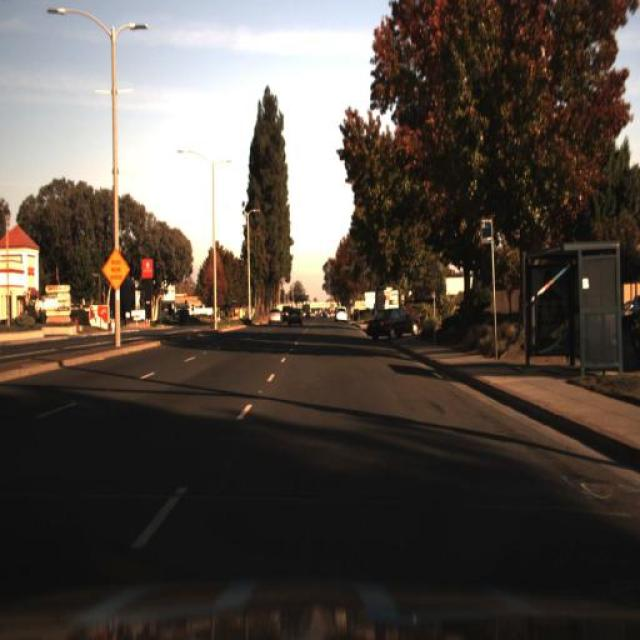car: (364, 302, 421, 349), (332, 300, 352, 328), (261, 304, 281, 328), (288, 299, 304, 326)
